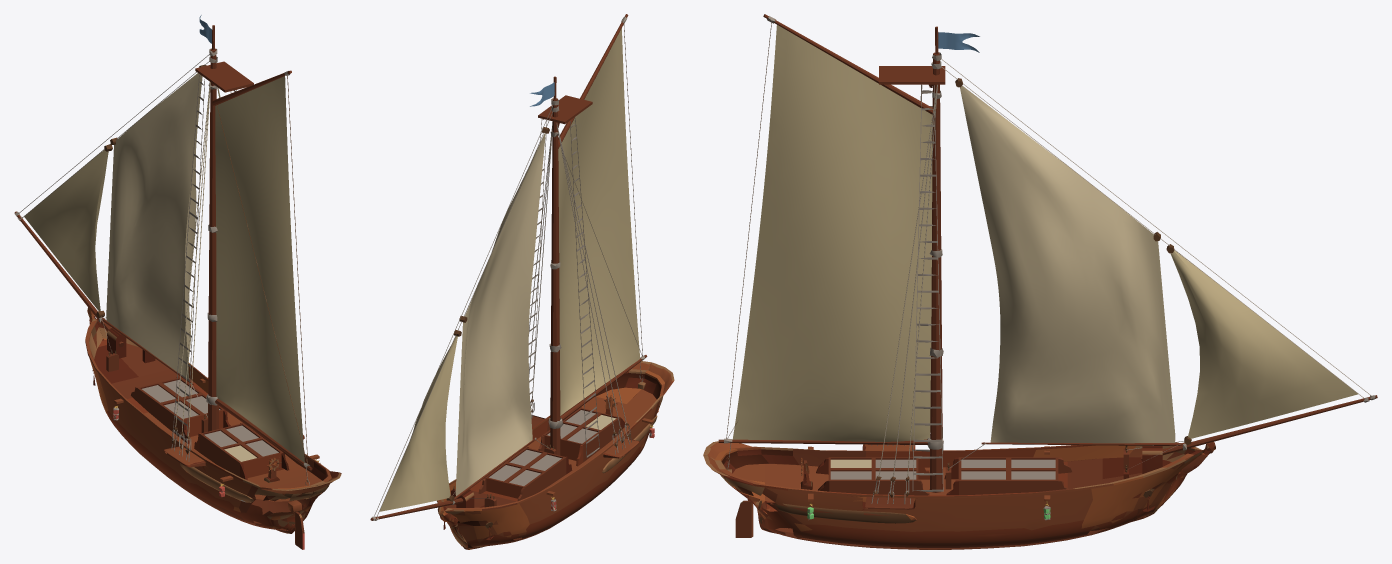
The model's file is schooner.glb.
3 views of the same model, side by side, from view 1: azimuth 30°, elevation 25°; view 2: azimuth 150°, elevation 25°; view 3: azimuth 270°, elevation 25° (orthographic). The views are drawn at different scales.
Parts seen in each view (by area): view 1: merchant_schooner; view 2: merchant_schooner; view 3: merchant_schooner.
Boxes of the visible parts, bbox=[...] form: merchant_schooner: bbox=[14, 15, 341, 549]; merchant_schooner: bbox=[370, 14, 674, 549]; merchant_schooner: bbox=[703, 14, 1377, 549].
Bounding box in the file's own units: 6.8 × 25.37 × 29.24.
